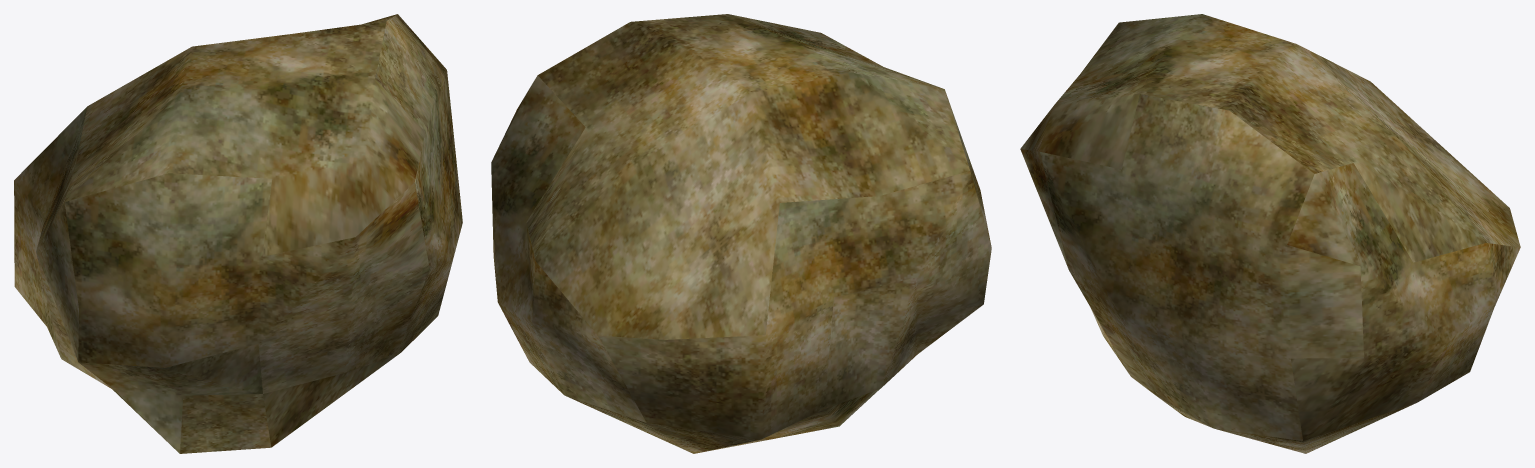
The model's file is LVL_ROAST_MUTTON_ROCK06.fbx.
The picture shows the model from 3 angles, left to right: view 1: azimuth 30°, elevation 25°; view 2: azimuth 150°, elevation 25°; view 3: azimuth 270°, elevation 25°; orthographic projection. The views are drawn at different scales.
Visible parts, largest first — view 1: LVL_ROAST_MUTTON_ROCK06; view 2: LVL_ROAST_MUTTON_ROCK06; view 3: LVL_ROAST_MUTTON_ROCK06.
Part boxes in pixels (x1,y1,x2,y2): LVL_ROAST_MUTTON_ROCK06: (14,14,462,453); LVL_ROAST_MUTTON_ROCK06: (491,14,991,453); LVL_ROAST_MUTTON_ROCK06: (1020,14,1520,453).
Bounding box in the file's own units: 15906 × 13228 × 16094.
1 material, 1 textured.
